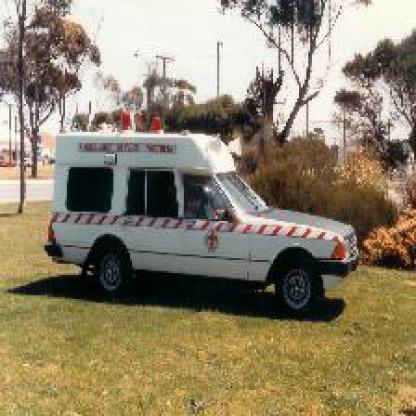emergency: (37, 106, 386, 323)
